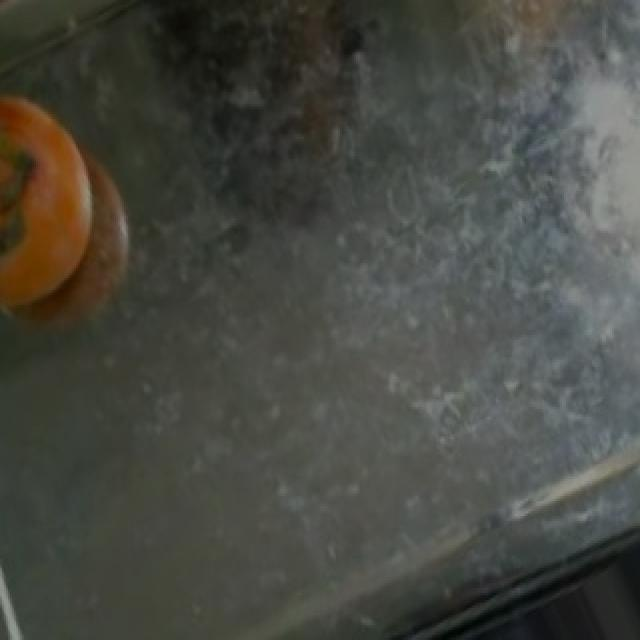Fruit: (0, 75, 124, 338)
